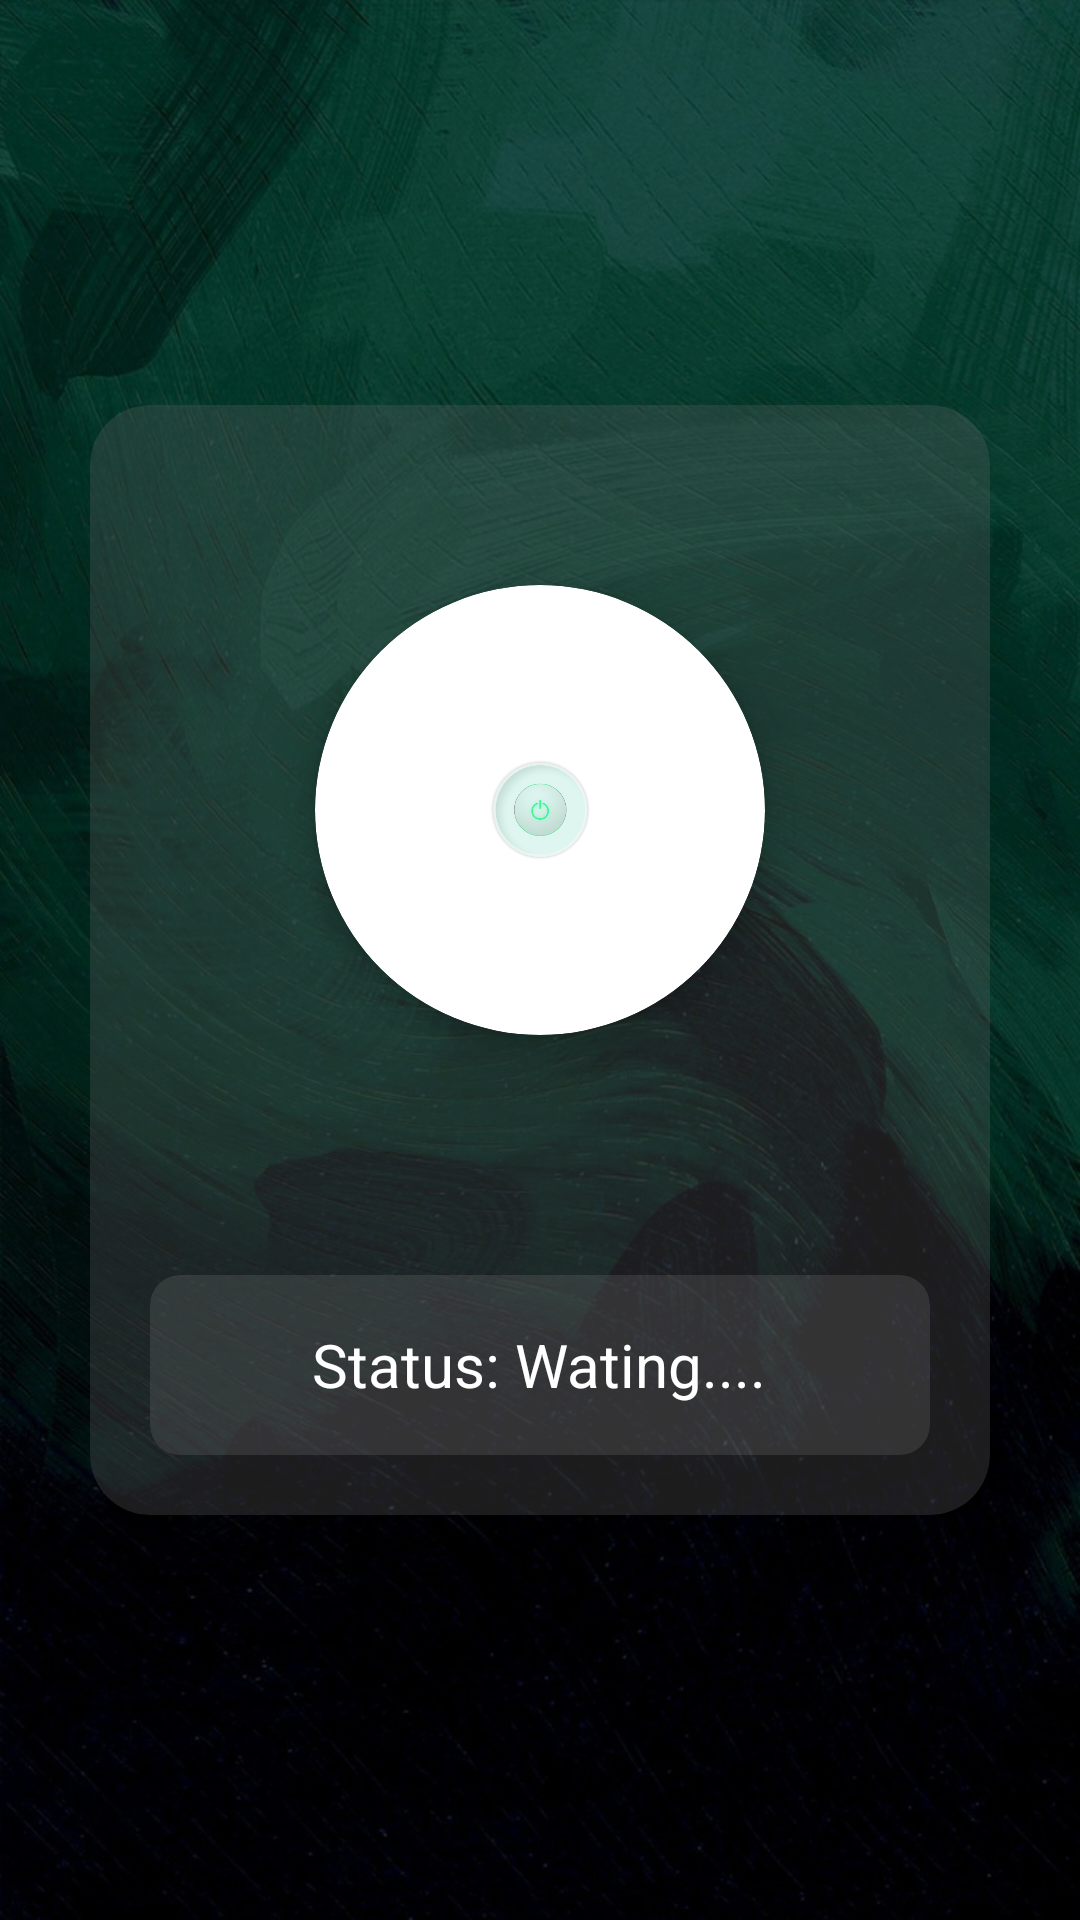

Screen size 1080×1920. Icon name, then its box in pixels as bbox(x1, y1, x2, y2):
off: bbox(493, 762, 588, 857)
